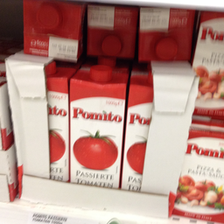tomato_sauce: (67, 63, 130, 191)
